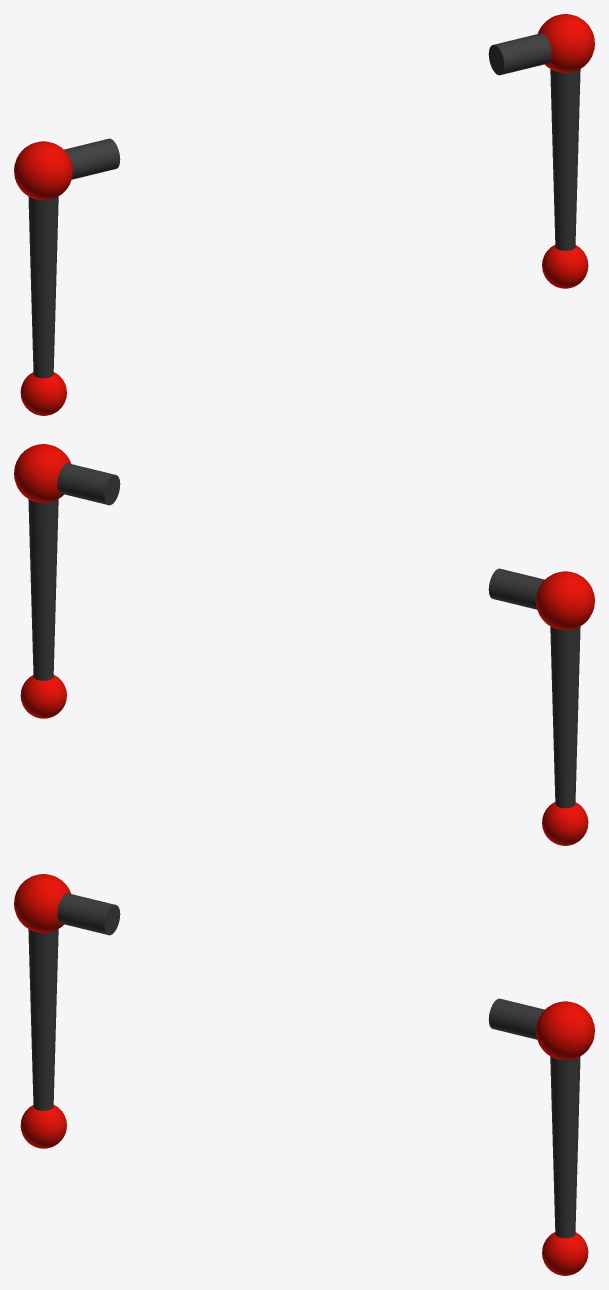
Rendered from Arms.fbx.
The picture shows the model from 3 angles, top to bottom: view 1: azimuth 30°, elevation 25°; view 2: azimuth 150°, elevation 25°; view 3: azimuth 330°, elevation 25°; orthographic projection.
Visible parts, largest first — view 1: Cylinder.001; view 2: Cylinder.001; view 3: Cylinder.001.
Part boxes in pixels (x1,y1,x2,y2): Cylinder.001: (14, 14, 594, 415); Cylinder.001: (14, 444, 594, 845); Cylinder.001: (14, 874, 594, 1275).
Size of the model in its own units: 214 by 96.38 by 19.17.
